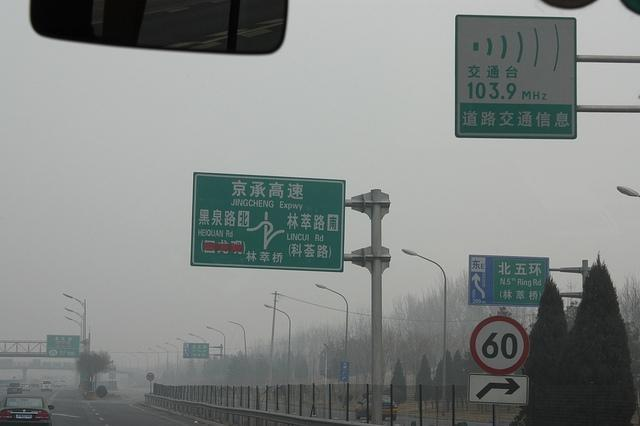car: (0, 393, 54, 426), (354, 394, 398, 420), (8, 383, 22, 393), (42, 380, 52, 392), (53, 378, 62, 388), (22, 383, 30, 391), (61, 379, 66, 386)
